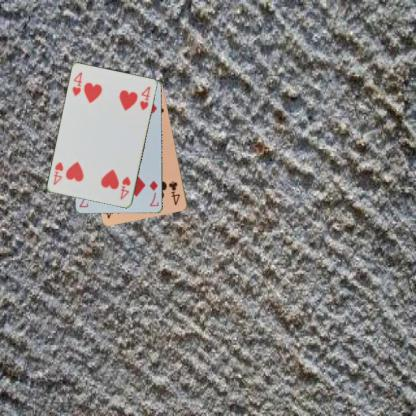4c: (166, 179, 182, 206)
4h: (118, 174, 132, 201), (70, 70, 84, 97)
7d: (147, 178, 160, 207)
